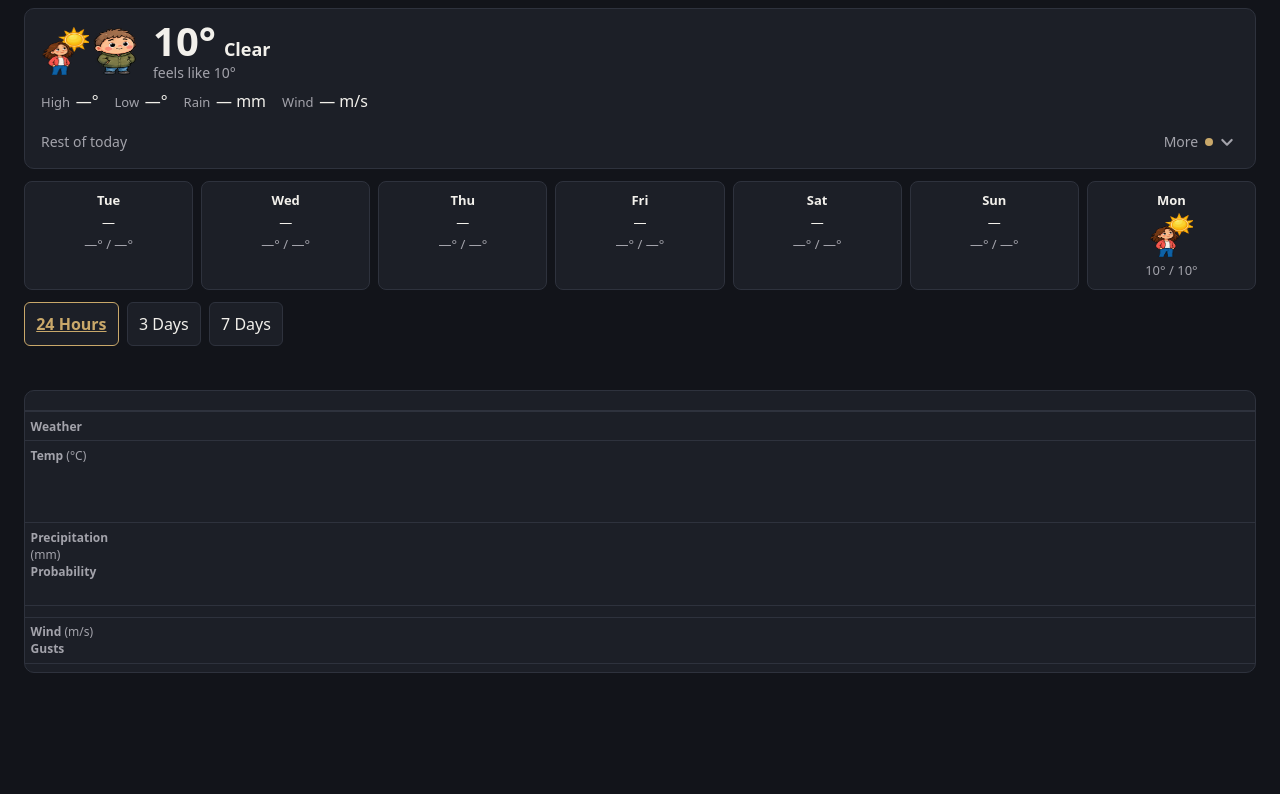
Test: Today summary card (018-dashboard-visual-redesign, US4) › expands/collapses multiple informational warnings independently (052-collapse-informational-warnings)
Click the button "More" at coordinates (1195, 142), box [1152,120,1239,164]
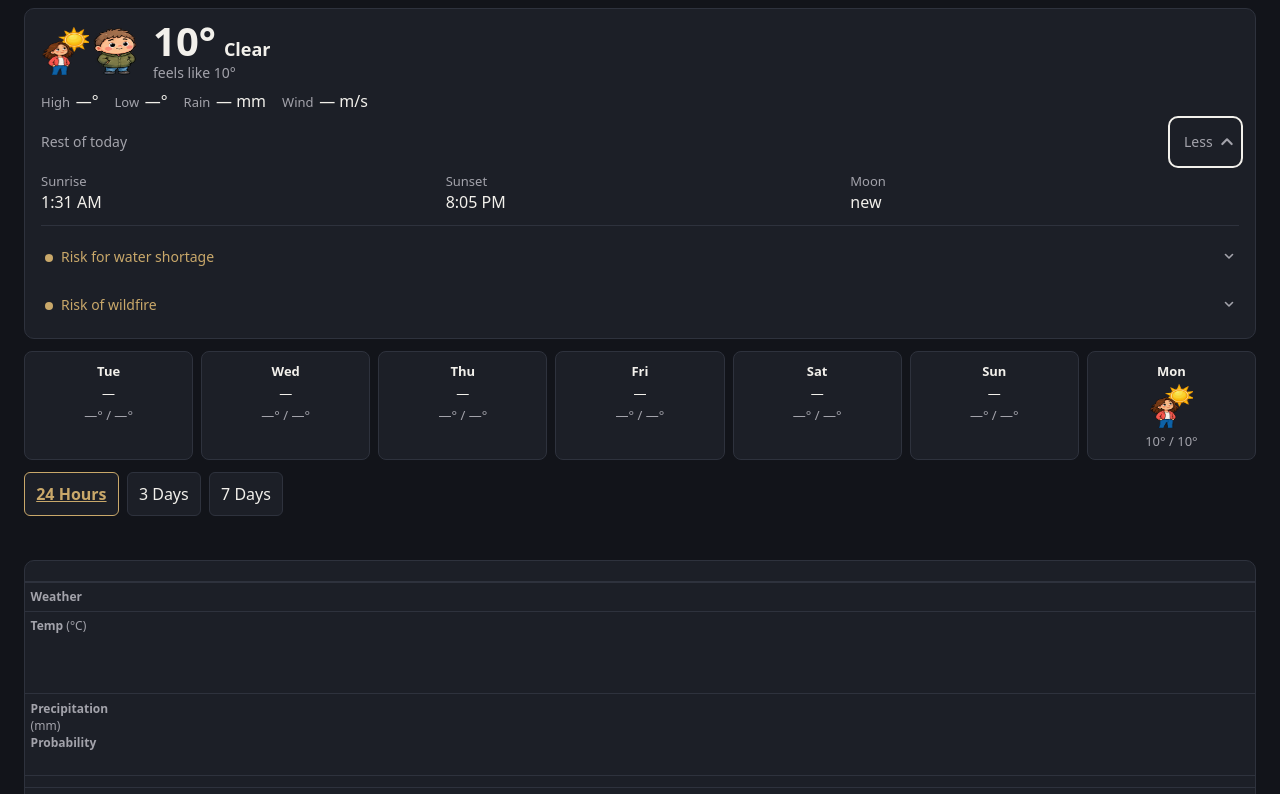
Click the button "Risk for water shortage" at coordinates (138, 256), box [41,234,1239,278]
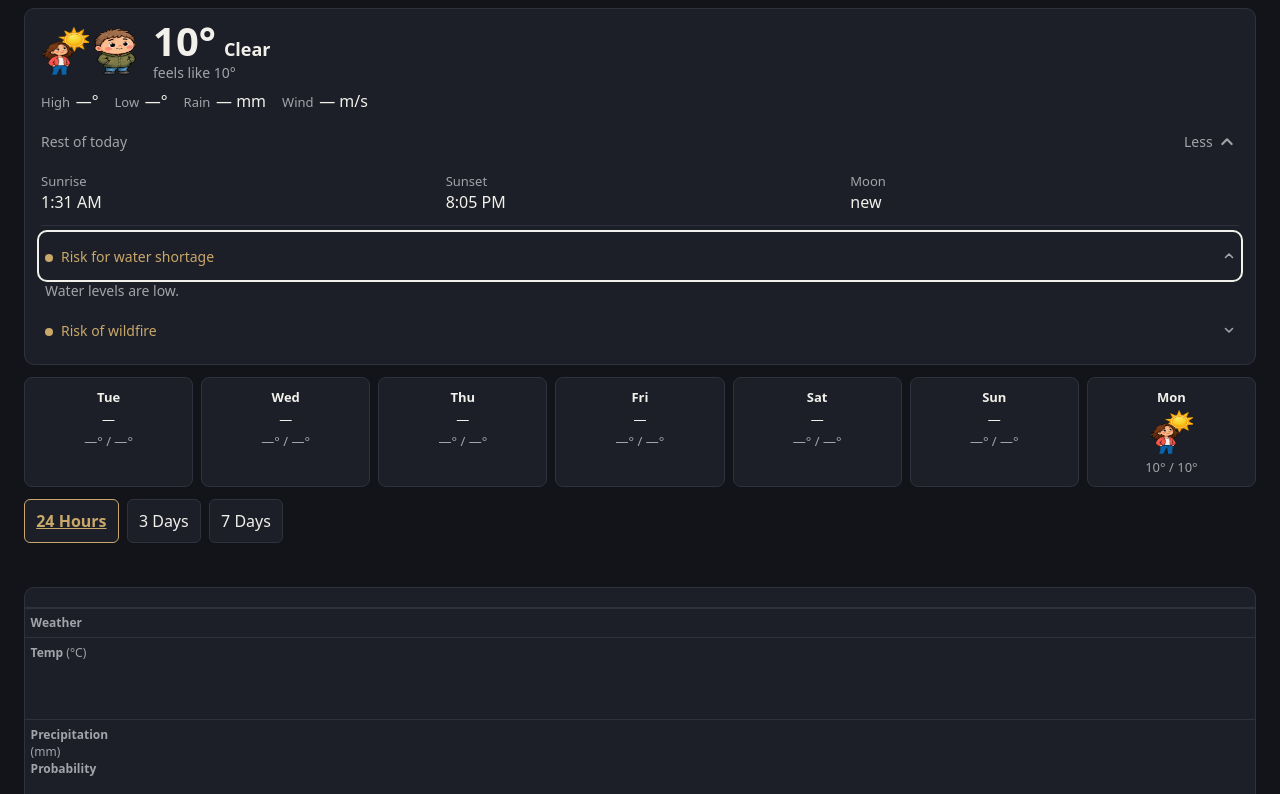
Check: the element "today" does not show "Dry conditions increase fire risk.", box [24,8,1256,365]
Check: the element "today" shows "Water levels are low.", box [45,281,179,300]
